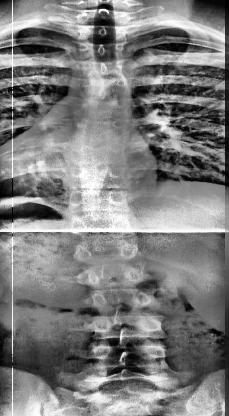Vertebrae: (76, 282, 162, 316), (74, 254, 154, 290), (88, 341, 168, 373), (84, 312, 168, 342), (67, 73, 139, 103), (69, 138, 132, 172), (74, 232, 140, 264), (74, 209, 136, 240), (76, 161, 130, 193), (71, 119, 131, 147), (78, 188, 132, 218), (72, 96, 134, 122), (73, 37, 131, 63), (74, 56, 132, 82), (74, 22, 132, 43)
